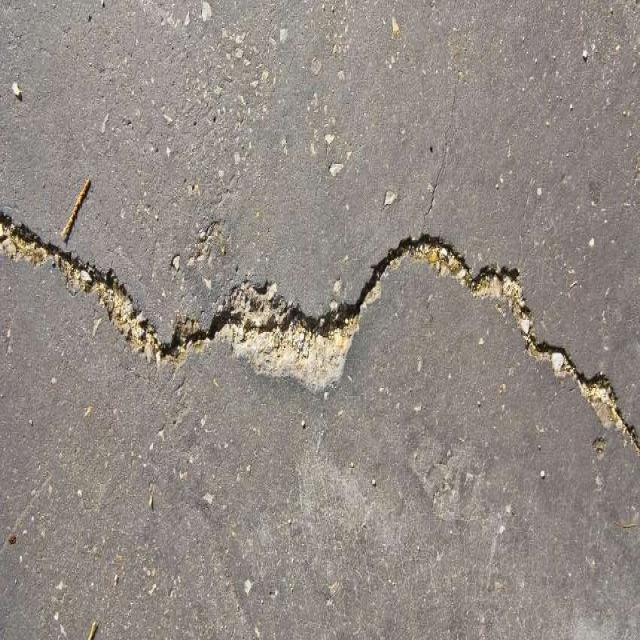crack: (0, 213, 639, 447)
